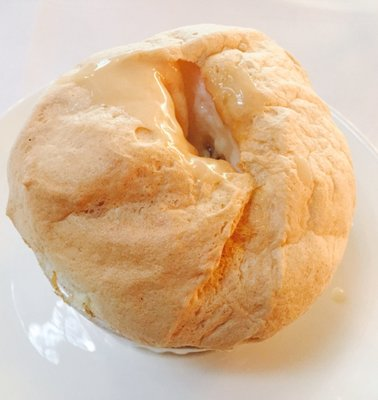soup: (9, 24, 355, 353)
